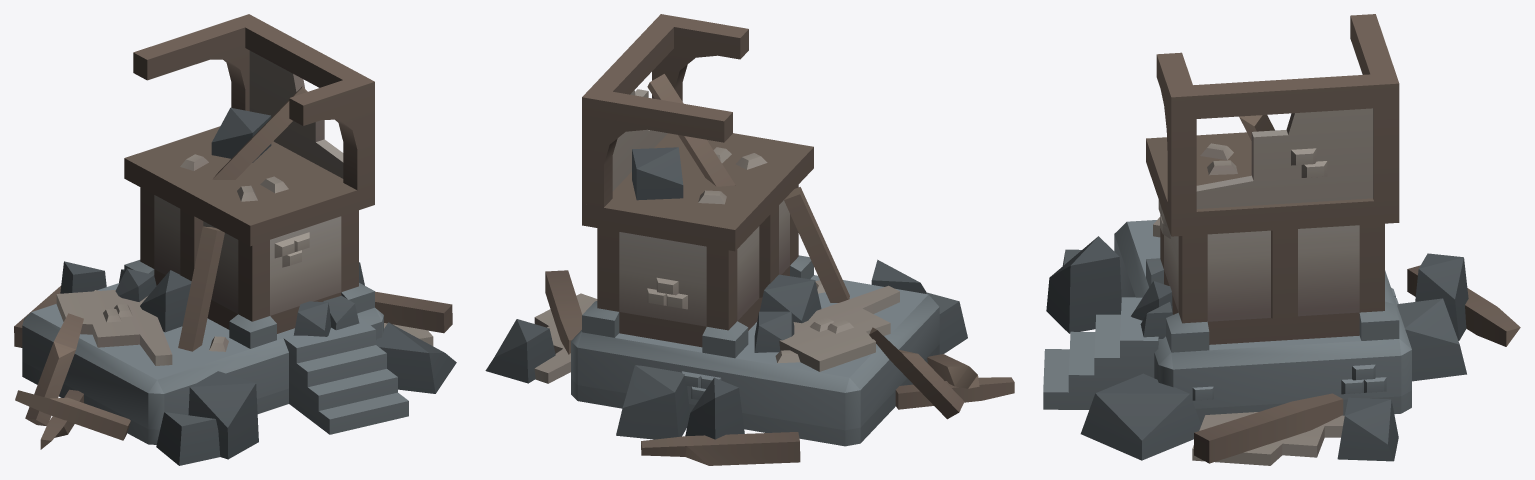
Rendered from rubble.glb.
3 views of the same model, side by side, from view 1: azimuth 30°, elevation 25°; view 2: azimuth 150°, elevation 25°; view 3: azimuth 270°, elevation 25° (orthographic). The views are drawn at different scales.
Visible parts, largest first — view 1: building_destroyed; view 2: building_destroyed; view 3: building_destroyed.
Boxes of the visible parts, box(x1,y1,x2,y2) form: building_destroyed: box(14, 14, 456, 465); building_destroyed: box(485, 14, 1014, 465); building_destroyed: box(1043, 14, 1520, 465).
Bounding box in the file's own units: 1.54 × 0.9939 × 1.31.
1 material, 1 textured.
